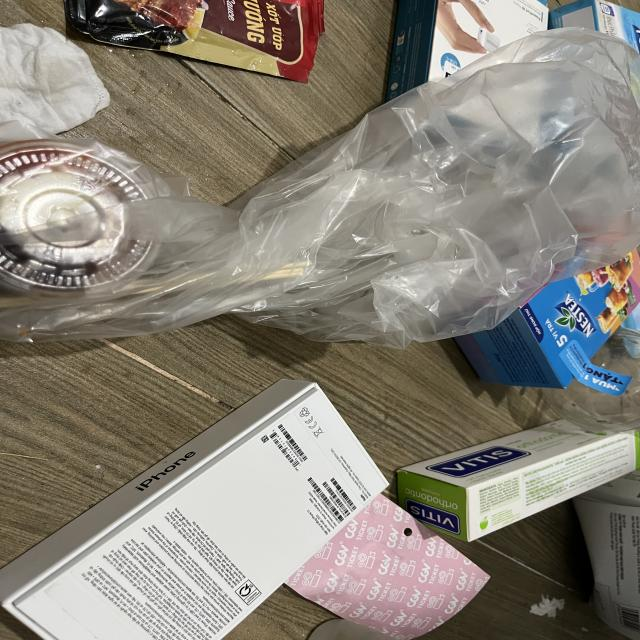cardboard box: (0, 374, 395, 640), (392, 415, 640, 547), (481, 248, 640, 398), (384, 0, 549, 102)
lid: (0, 139, 161, 296)
napkin: (0, 22, 112, 138)
paper: (279, 492, 492, 640)
snack package: (66, 0, 322, 87)
trash bag: (0, 26, 640, 350)
